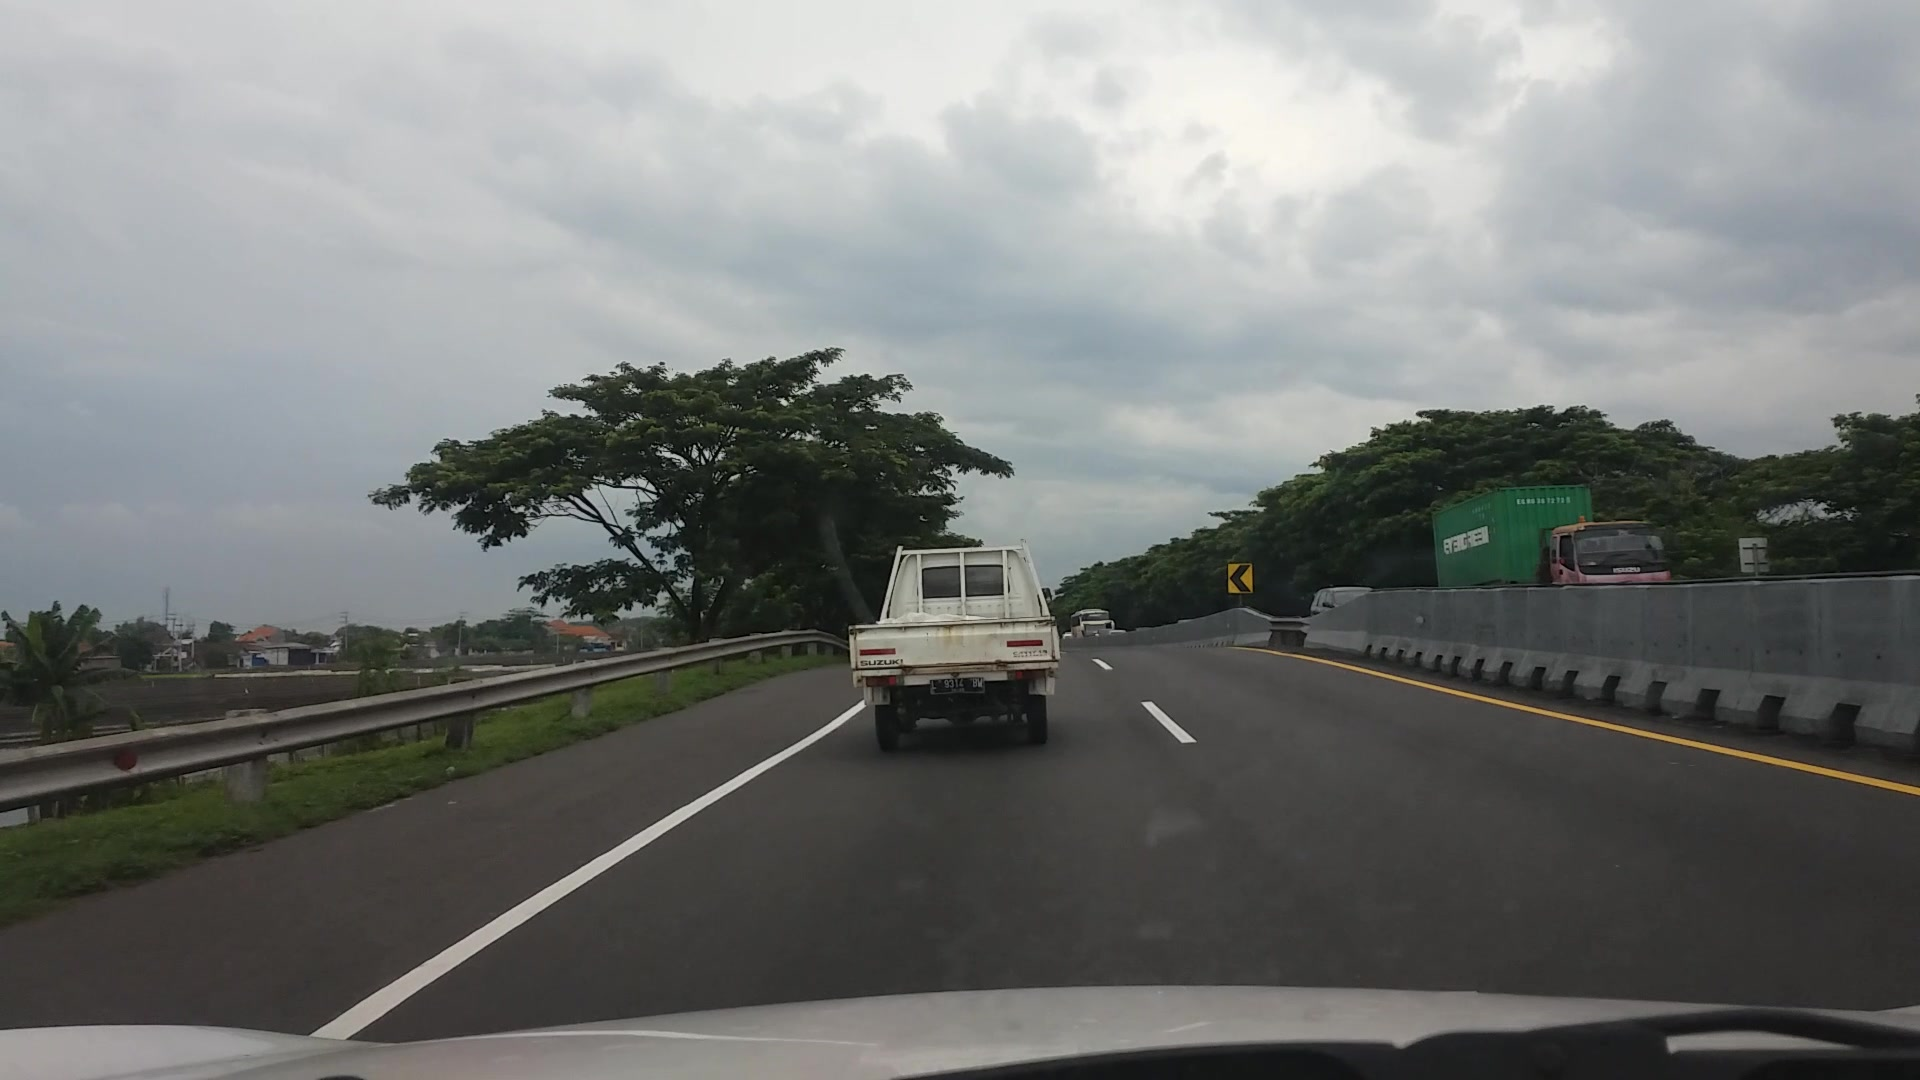plate_positive: (930, 678, 984, 695)
